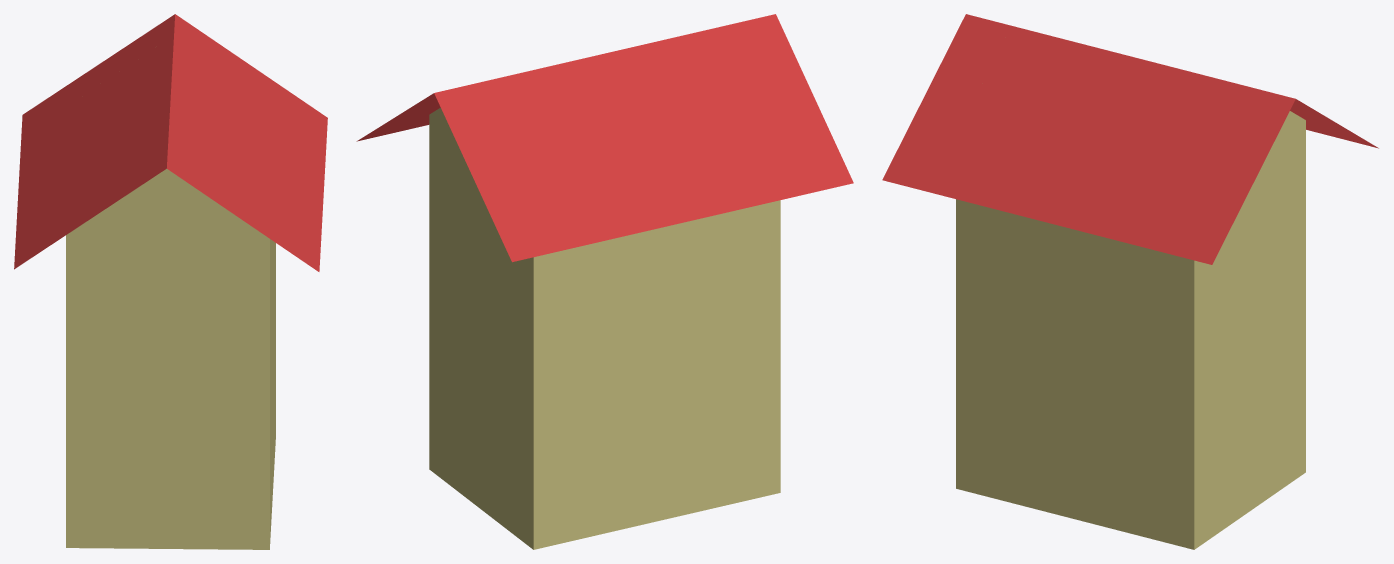
3 views of the same model, side by side, from view 1: azimuth 30°, elevation 25°; view 2: azimuth 150°, elevation 25°; view 3: azimuth 270°, elevation 25° (orthographic). The views are drawn at different scales.
Parts seen in each view (by area): view 1: group_5, group_3, group_4; view 2: group_5, group_3, group_4; view 3: group_5, group_3, group_4.
Boxes of the visible parts, x1,y1,x2,y2 form: group_5: (66,169,275,549); group_3: (14,14,327,271); group_4: (14,14,326,268); group_5: (429,107,780,549); group_3: (437,14,853,261); group_4: (356,82,852,261); group_5: (956,111,1305,549); group_3: (882,14,1378,264); group_4: (946,14,1206,263).
Size of the model in its own units: 13.32 by 13.92 by 13.09.
